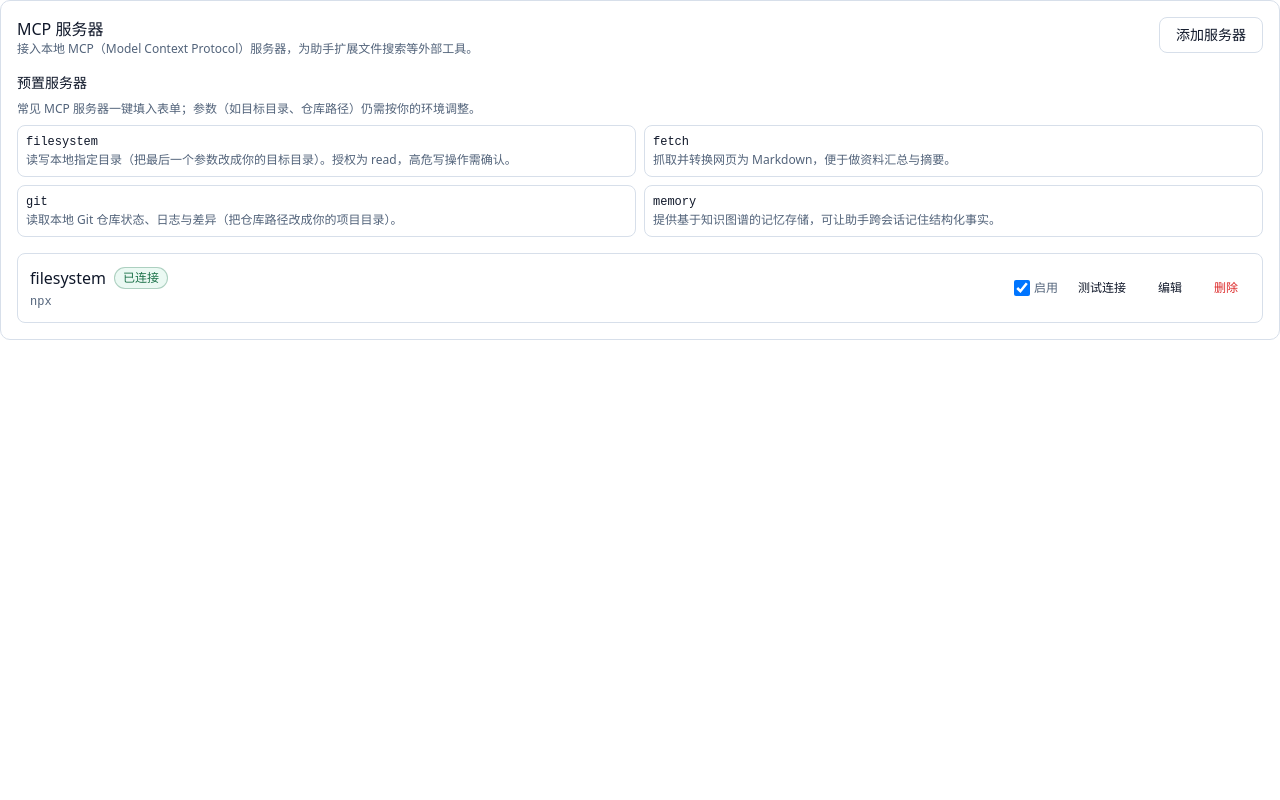
it: MCP 服务器面板（v0.6 M1） › 测试连接：POST /api/mcp/servers/1/test 并按结果提示（v2.3）
What coordinates should you click on to do the following:
click the button "测试连接"
I would click on:
 (1102, 288)
Its box is left=1066, top=272, right=1138, bottom=304.
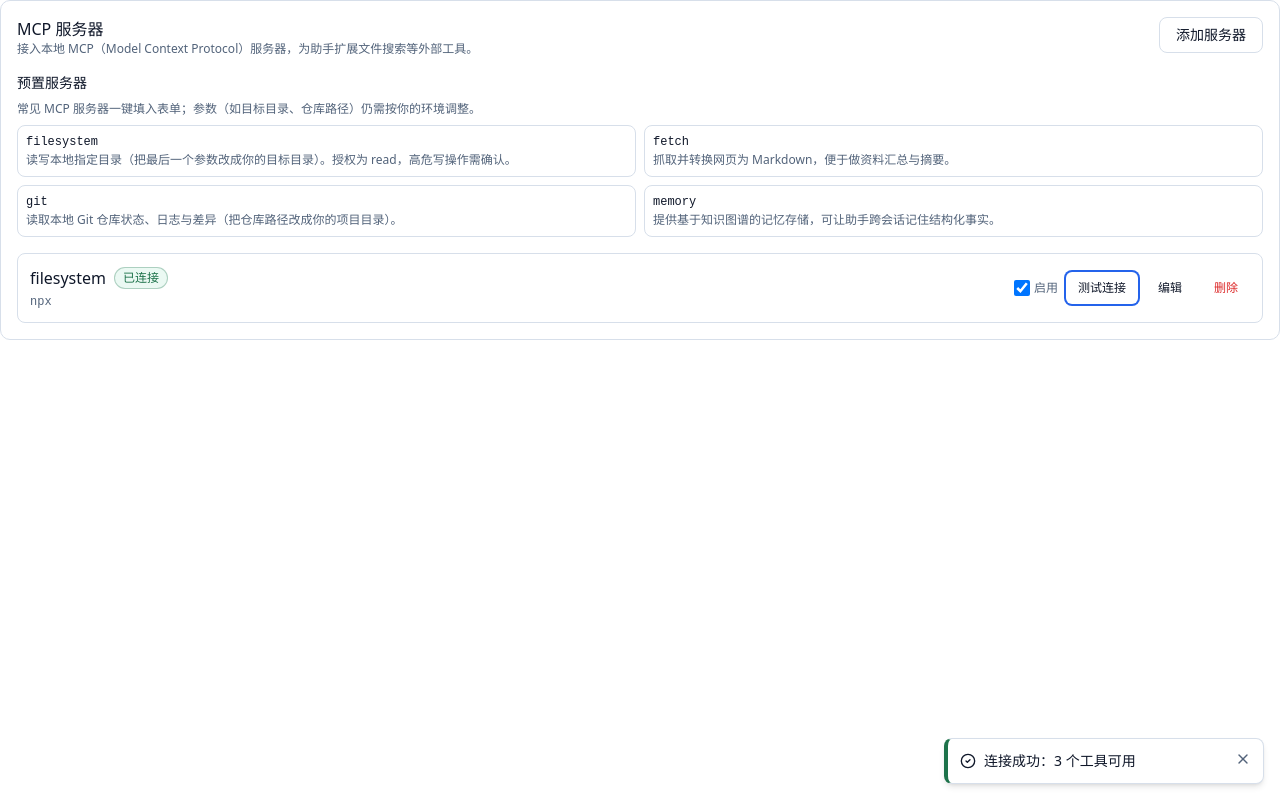
expect the text "连接成功：3 个工具可用" is shown: met, box left=984, top=751, right=1136, bottom=770
